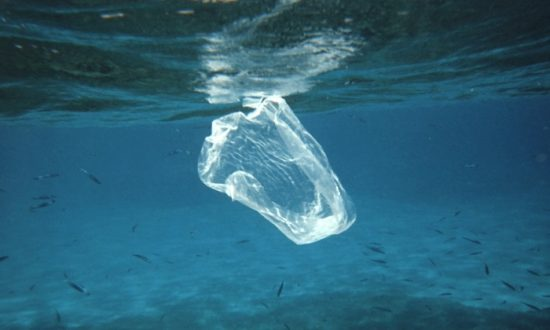litter: (174, 91, 386, 254)
